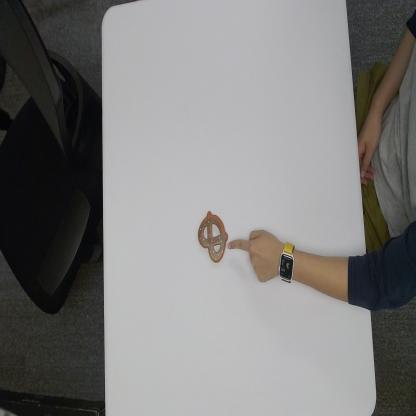Arm: (295, 230, 416, 314)
Hand: (228, 226, 278, 283)
Pretzel: (197, 206, 230, 264)
